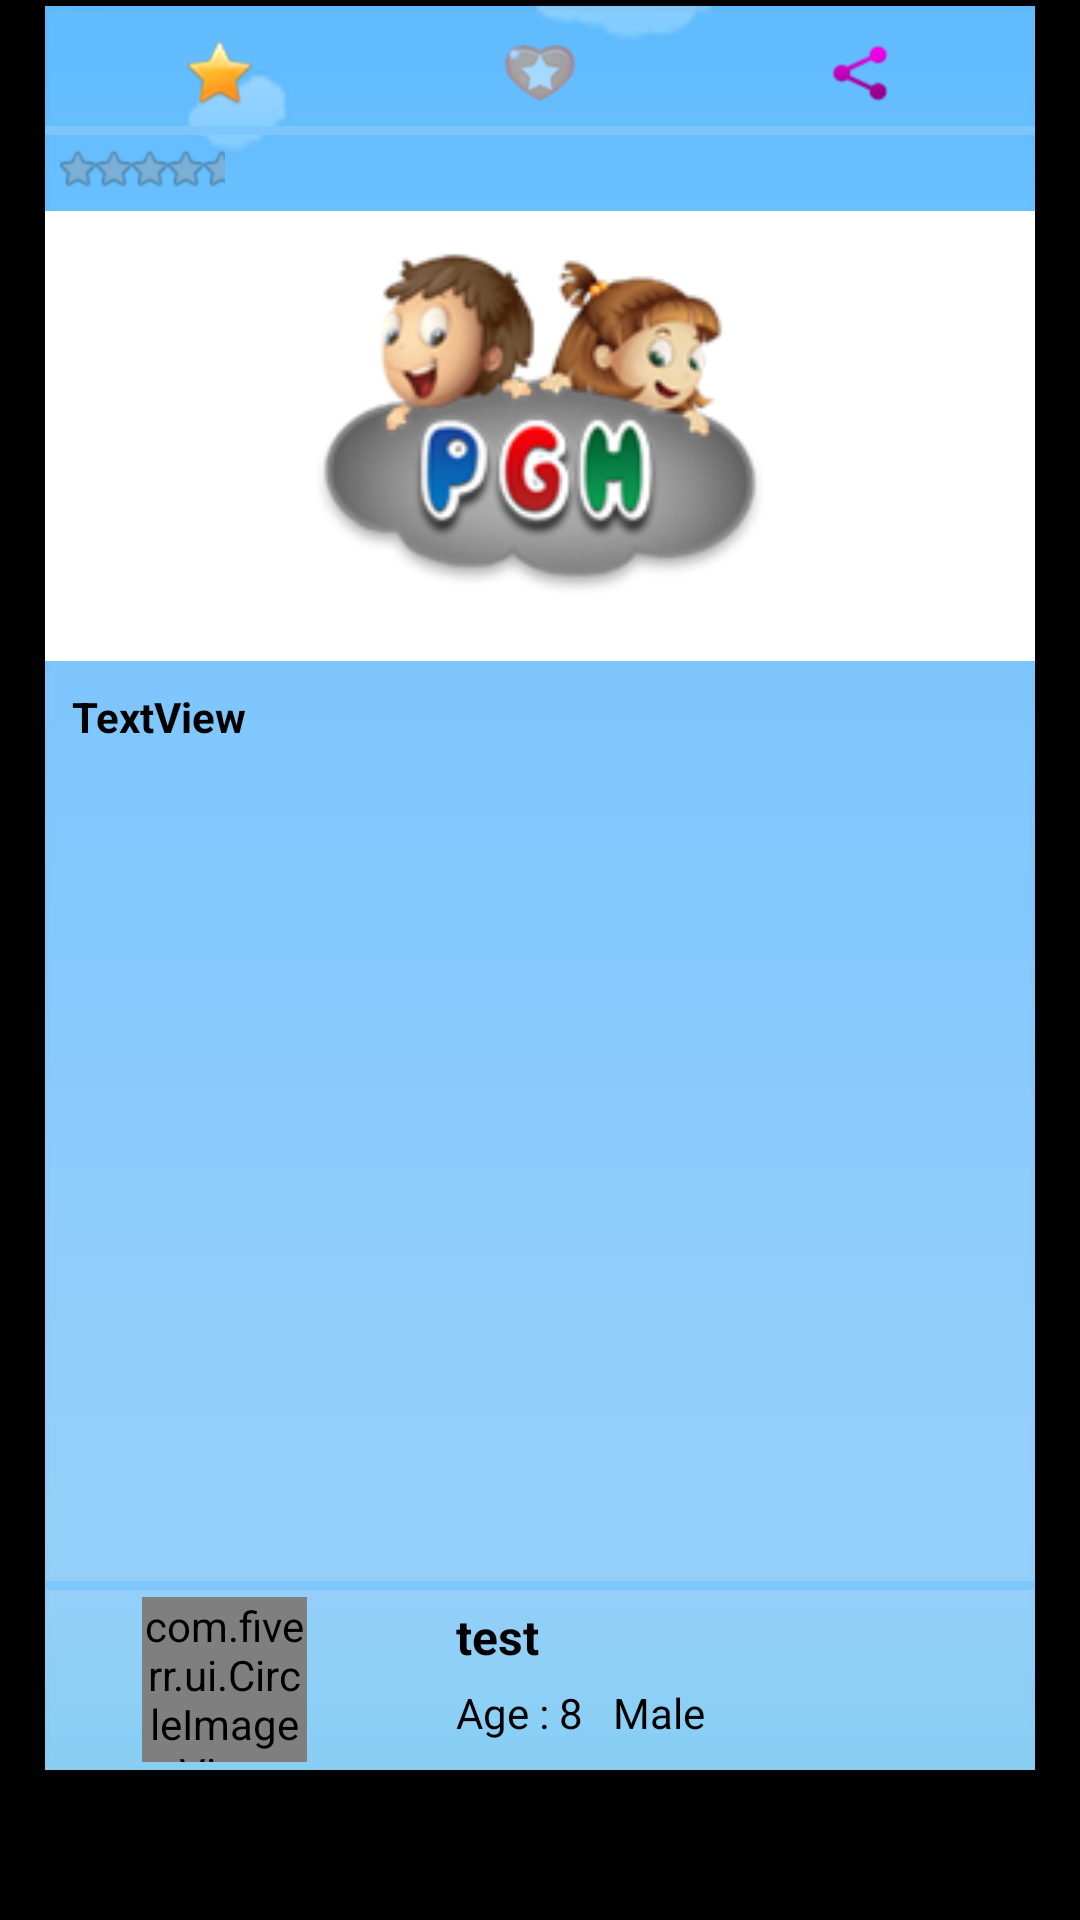

Point at icon controls on the screen. Image size 1080 × 1920, points as (x=x, y=y).
disable quote fav: (x=540, y=73)
rate quote: (x=220, y=73)
share quote: (x=860, y=73)
